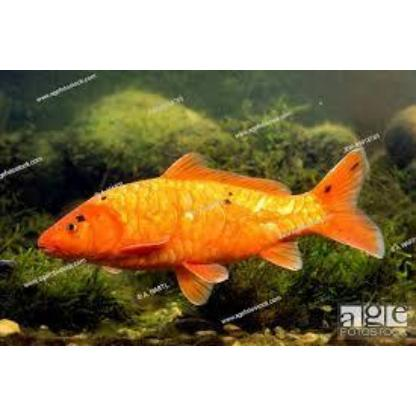ikan-mas: (33, 144, 381, 302)
